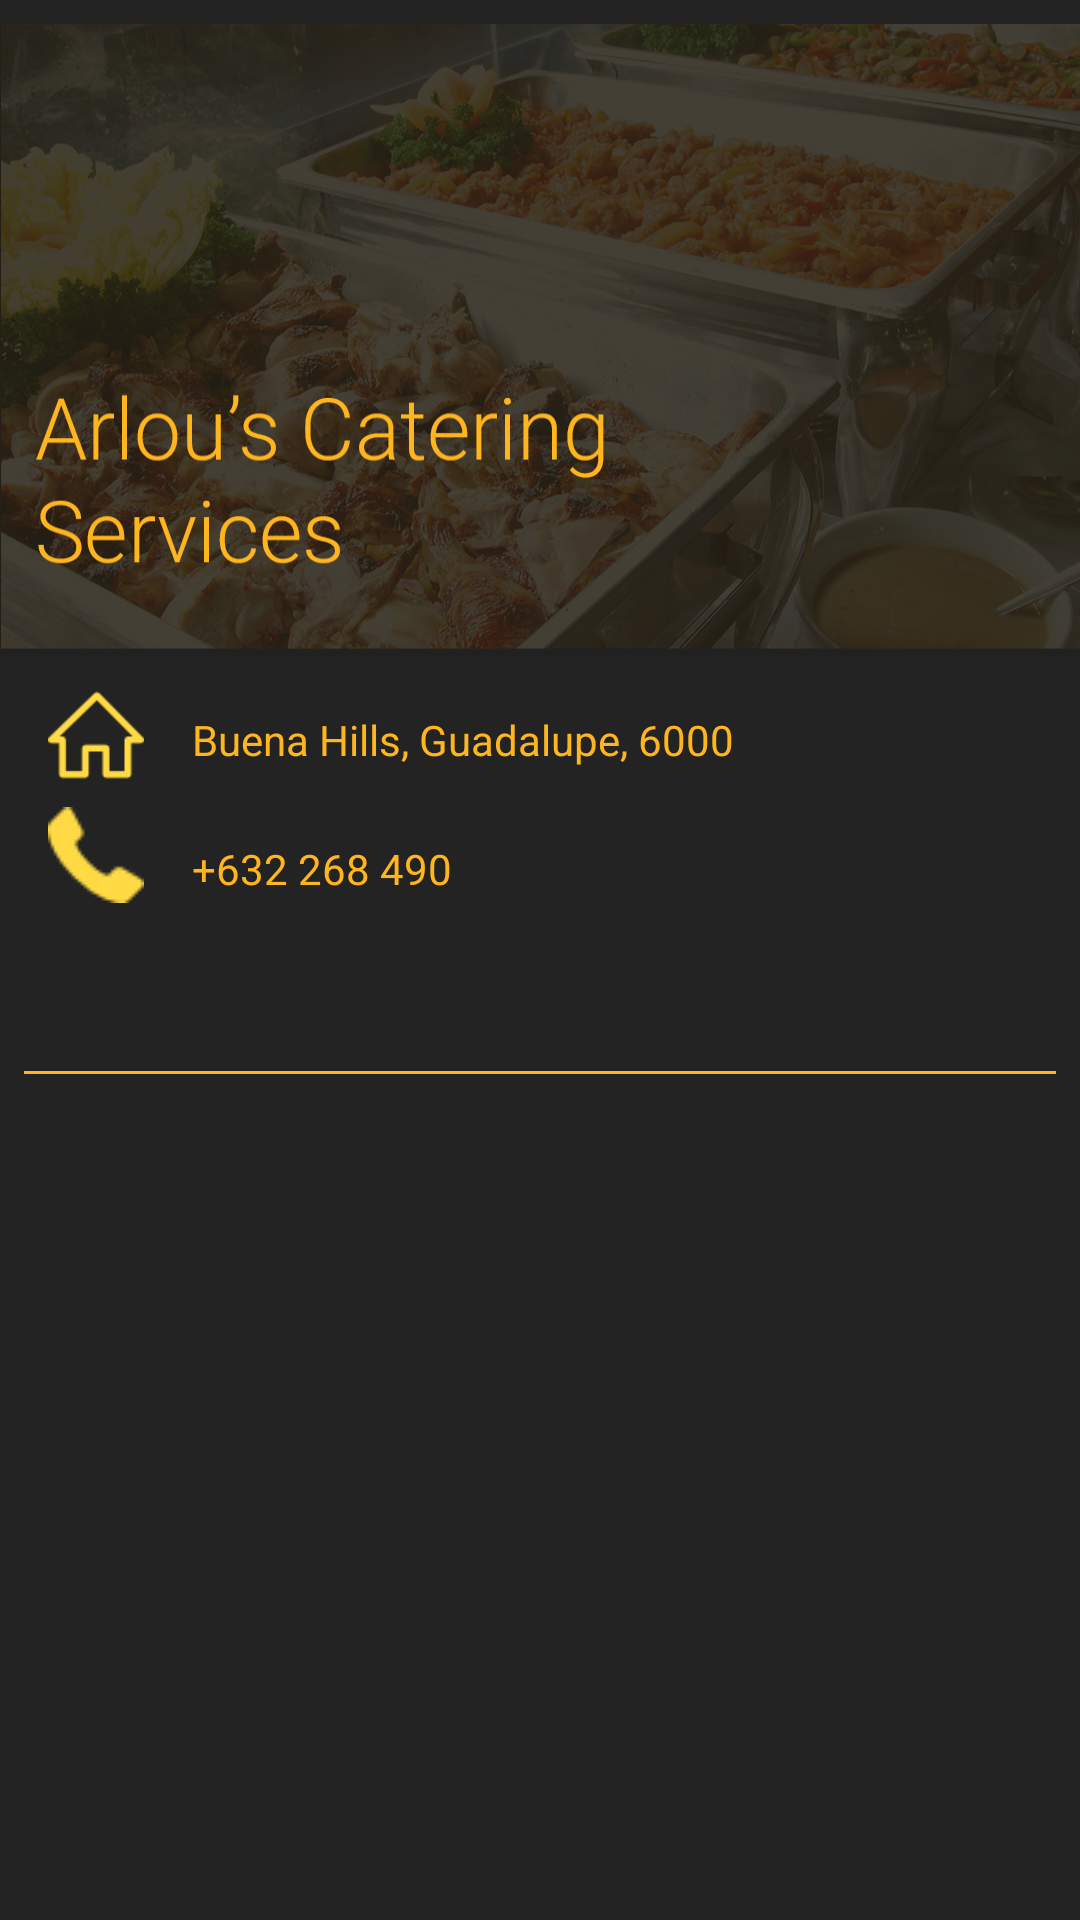

Where to tap for icons on this 1080w x 1920h app screen, as point (x, y):
call: point (96, 855)
home: point (96, 735)
